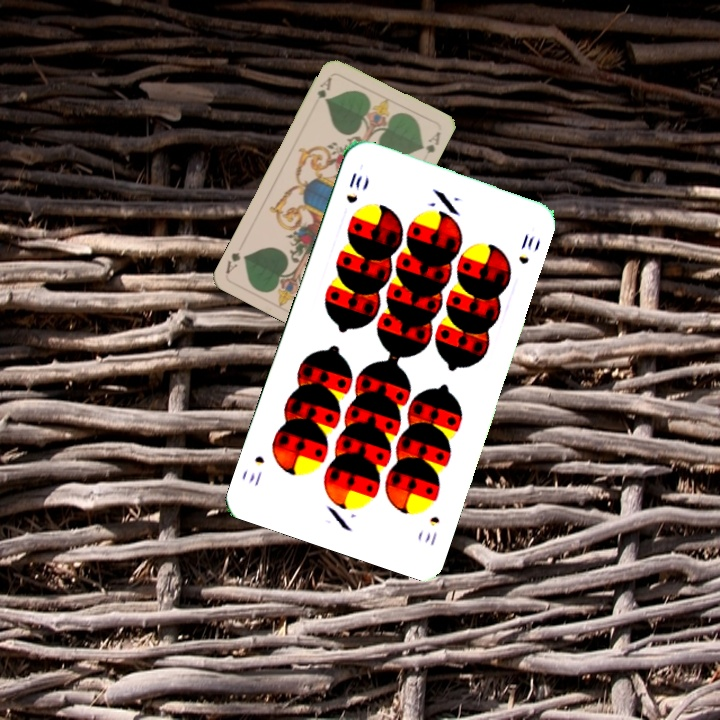GA: (313, 73, 334, 105)
S10: (342, 168, 365, 206), (420, 512, 442, 549)
